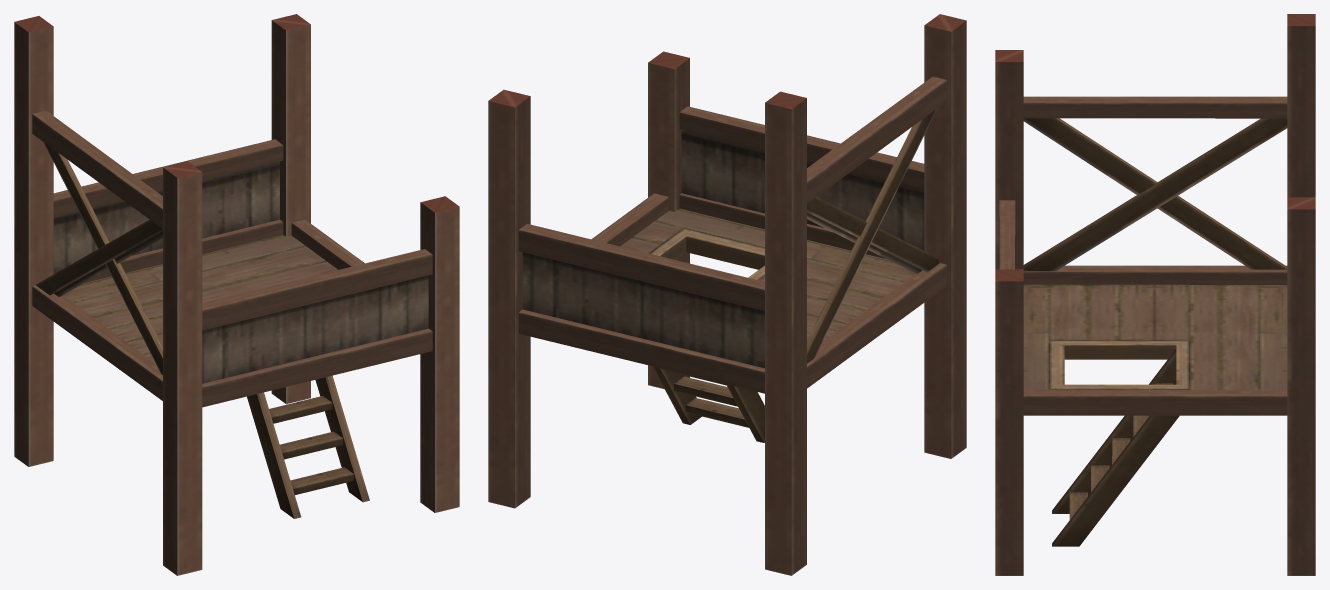
The model's file is posun02_L.fbx.
3 views of the same model, side by side, from view 1: azimuth 30°, elevation 25°; view 2: azimuth 150°, elevation 25°; view 3: azimuth 270°, elevation 25° (orthographic). The views are drawn at different scales.
Parts seen in each view (by area): view 1: posun02_L; view 2: posun02_L; view 3: posun02_L.
Part boxes in pixels (x1,y1,x2,y2): posun02_L: [14, 14, 459, 575]; posun02_L: [488, 14, 966, 575]; posun02_L: [995, 14, 1315, 575].
Bounding box in the file's own units: 1.92 × 2.82 × 1.92.
